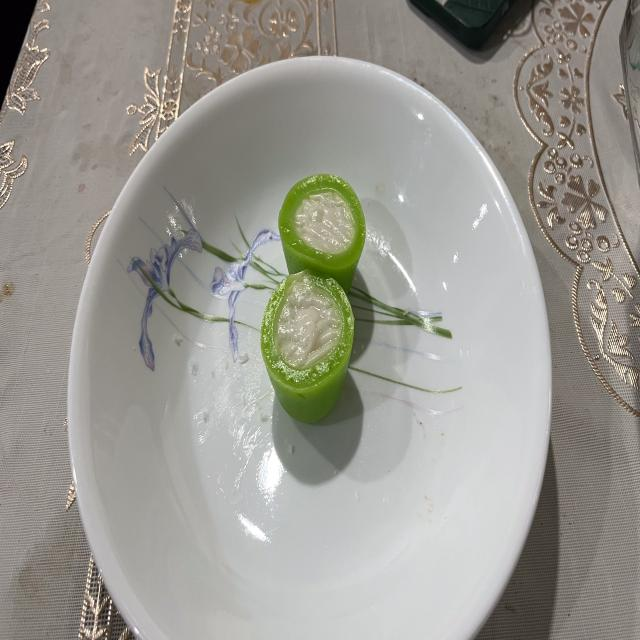nona-manis: (261, 271, 354, 422), (279, 173, 366, 293)
